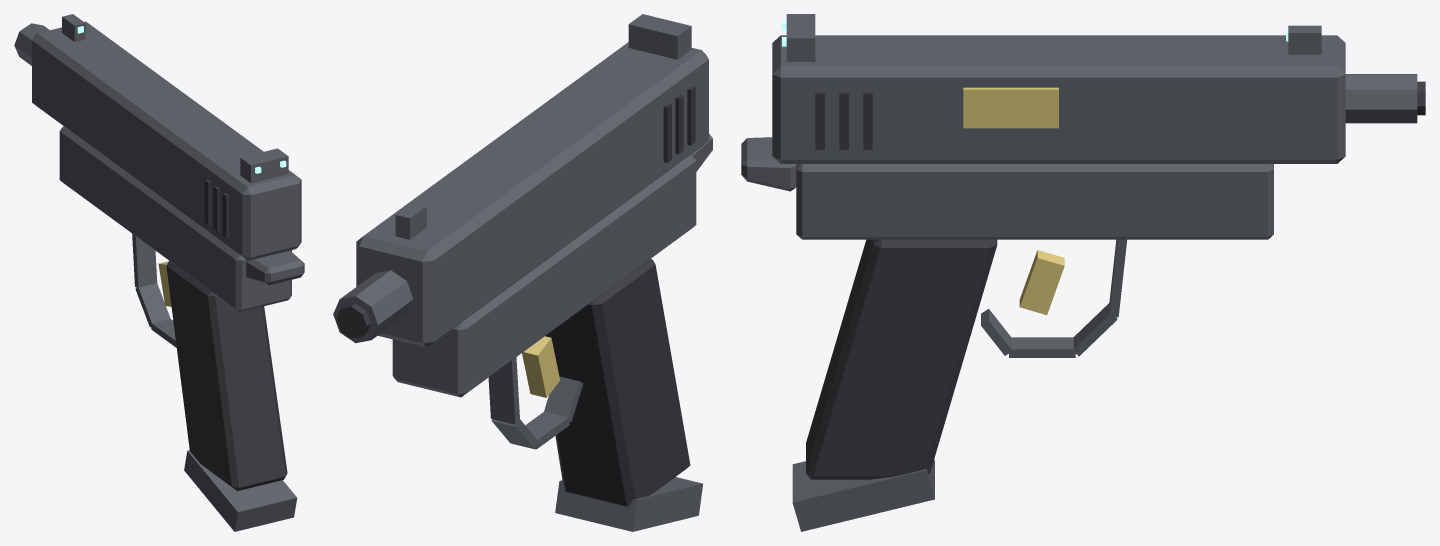
File: pistol.glb
3 views of the same model, side by side, from view 1: azimuth 30°, elevation 25°; view 2: azimuth 150°, elevation 25°; view 3: azimuth 270°, elevation 25° (orthographic). The views are drawn at different scales.
Visible parts, largest first — view 1: Pistol_Mesh; view 2: Pistol_Mesh; view 3: Pistol_Mesh.
Boxes of the visible parts, bbox=[...] form: Pistol_Mesh: bbox=[14, 14, 304, 531]; Pistol_Mesh: bbox=[333, 14, 712, 531]; Pistol_Mesh: bbox=[741, 14, 1425, 531].
Size of the model in its own units: 0.0418 by 0.2248 by 0.2865.
